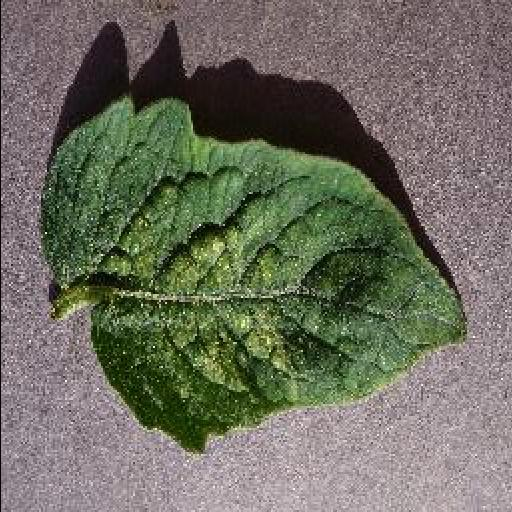disease_tomato: (38, 96, 472, 452)
